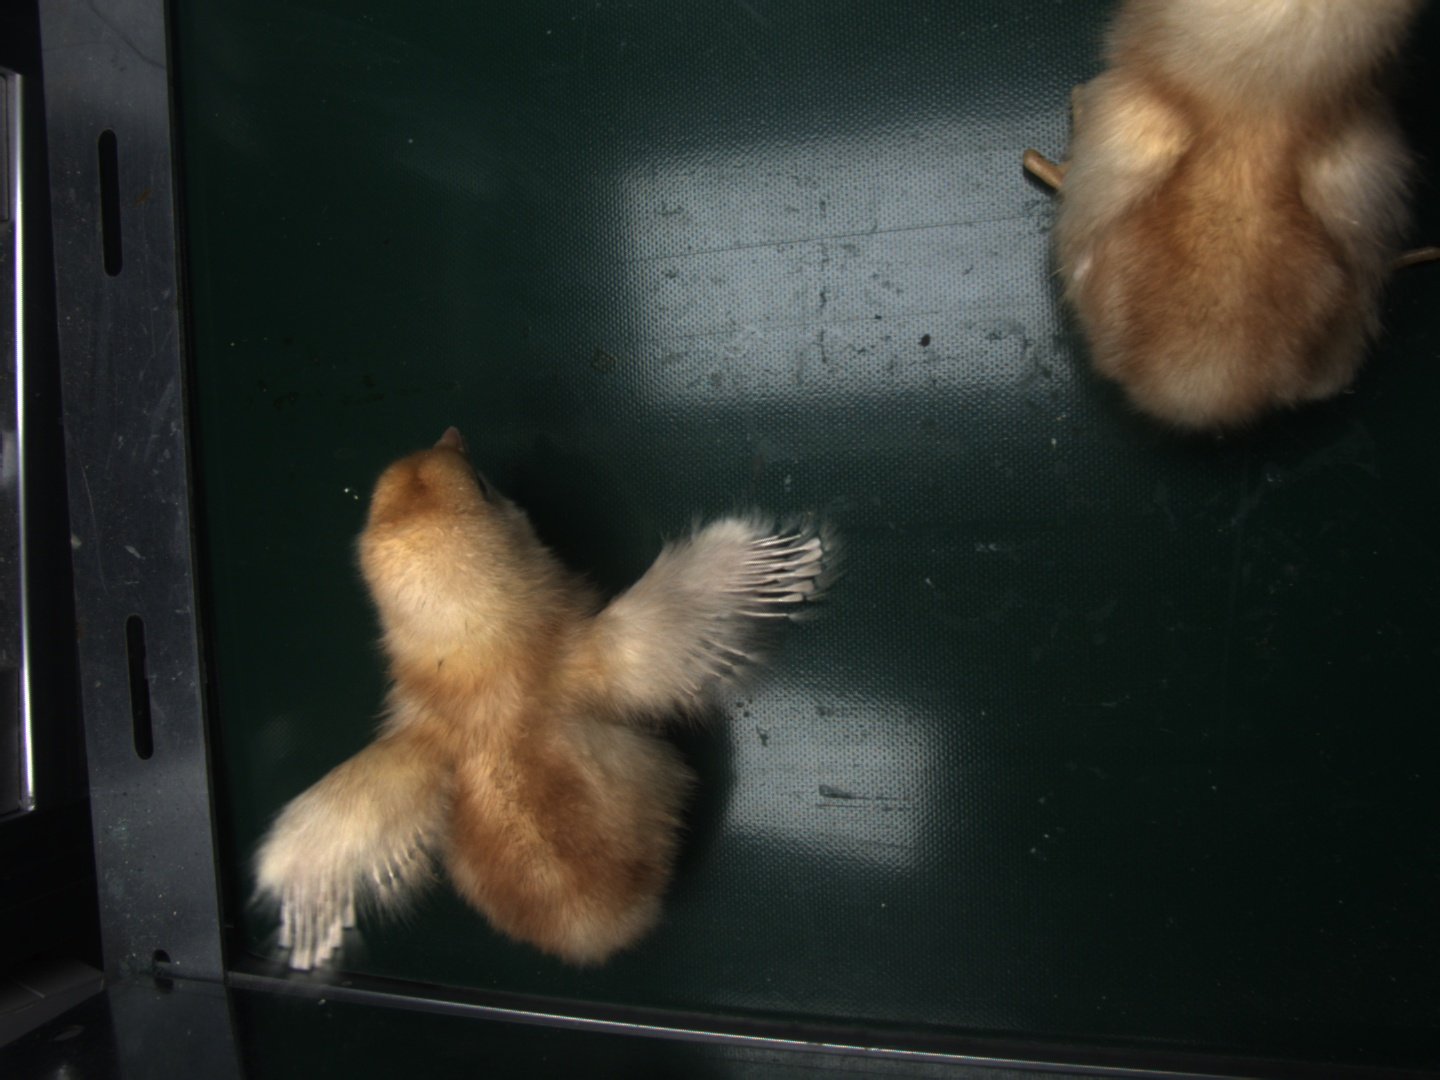female: (732, 529, 825, 614)
